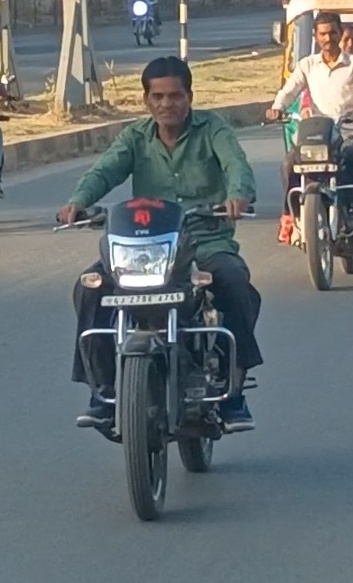BikeWithRider: (47, 48, 275, 540), (254, 0, 353, 307)
NoHelmet: (135, 49, 201, 130), (305, 10, 347, 58)
